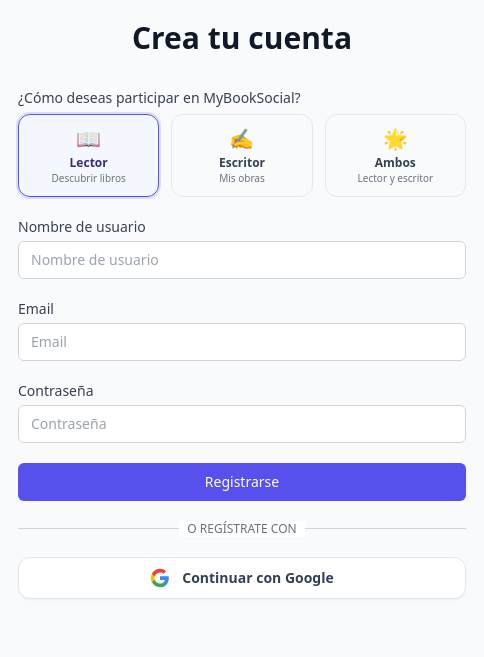
Scenario: Register Component › shows validation errors for empty fields
The width and height of the screenshot is (484, 657).
Step 1. Click the button "Registrarse" → (242,482), box [18, 462, 466, 500]
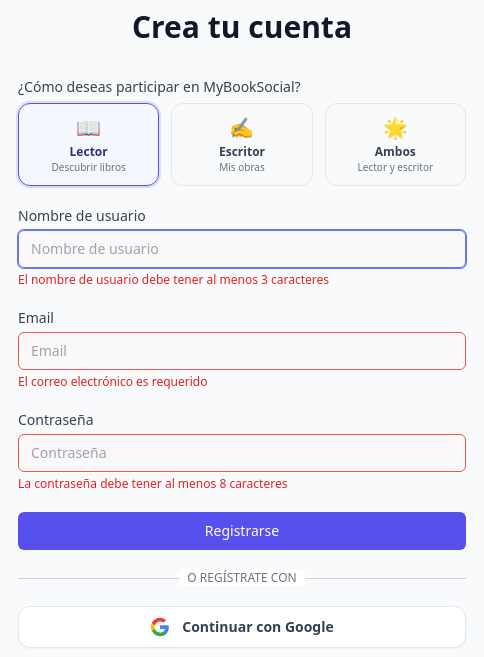
Expected: the text "El nombre de usuario debe tener al menos 3 caracteres" is shown, [18, 271, 329, 288]
